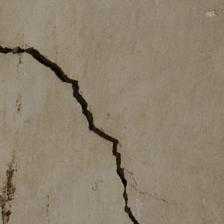Crack: (44, 0, 224, 56), (14, 0, 126, 70)
